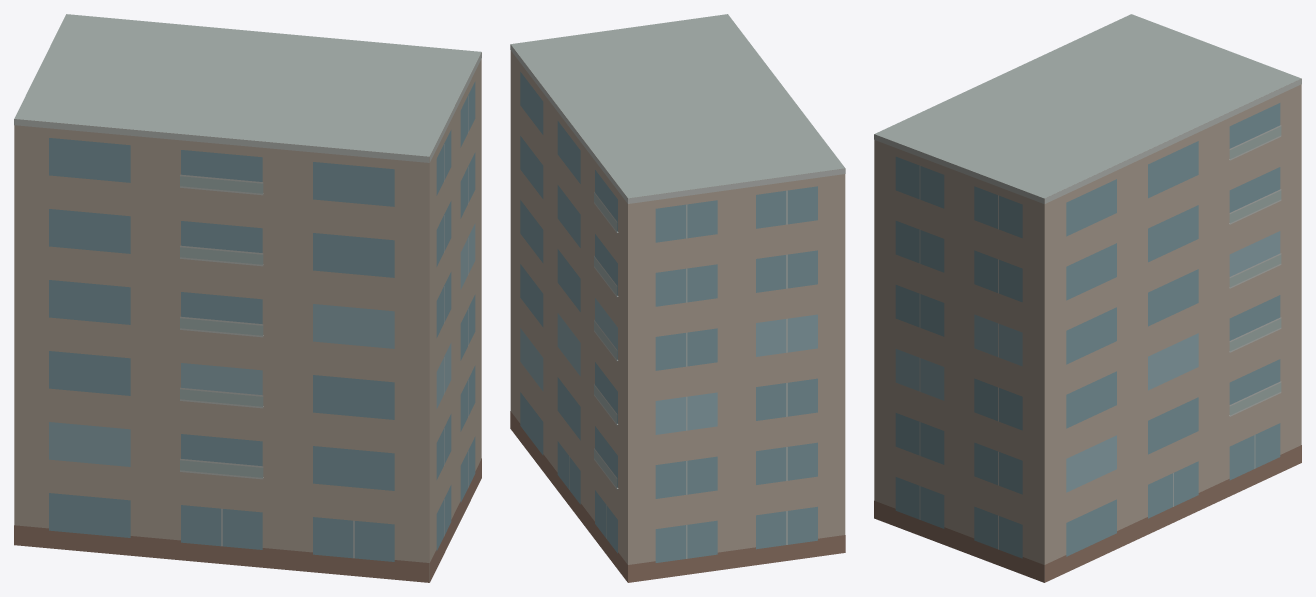
File: survey-upis-32537810.glb
3 views of the same model, side by side, from view 1: azimuth 30°, elevation 25°; view 2: azimuth 150°, elevation 25°; view 3: azimuth 270°, elevation 25° (orthographic). The views are drawn at different scales.
Parts seen in each view (by area): view 1: survey-upis-32537810.tmp; view 2: survey-upis-32537810.tmp; view 3: survey-upis-32537810.tmp.
Boxes of the visible parts, x1,y1,x2,y2 form: survey-upis-32537810.tmp: (14,14,481,582); survey-upis-32537810.tmp: (510,14,845,582); survey-upis-32537810.tmp: (874,14,1301,582).
Size of the model in its own units: 17 by 16.5 by 16.64.
